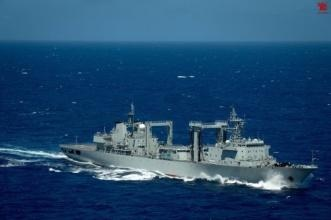warship: (57, 99, 320, 184)
